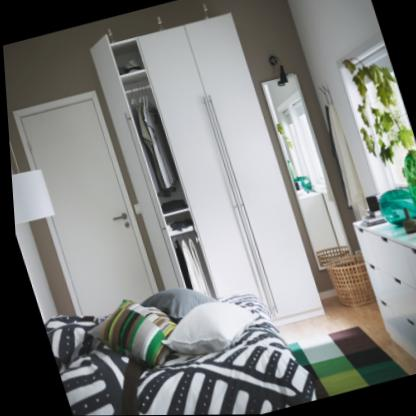Bed: (36, 259, 314, 416)
